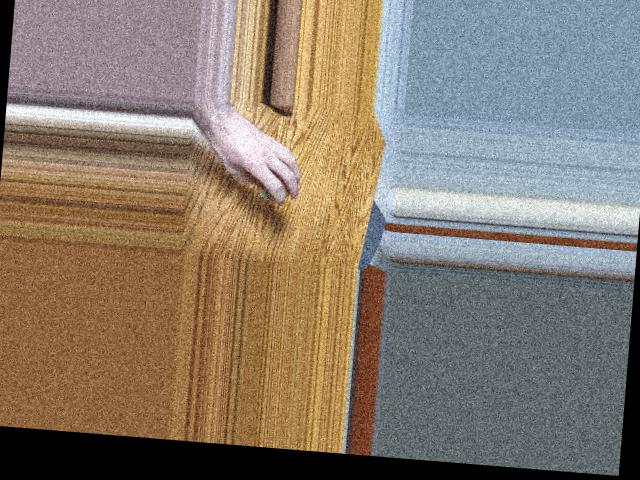onion: (255, 164, 293, 202)
